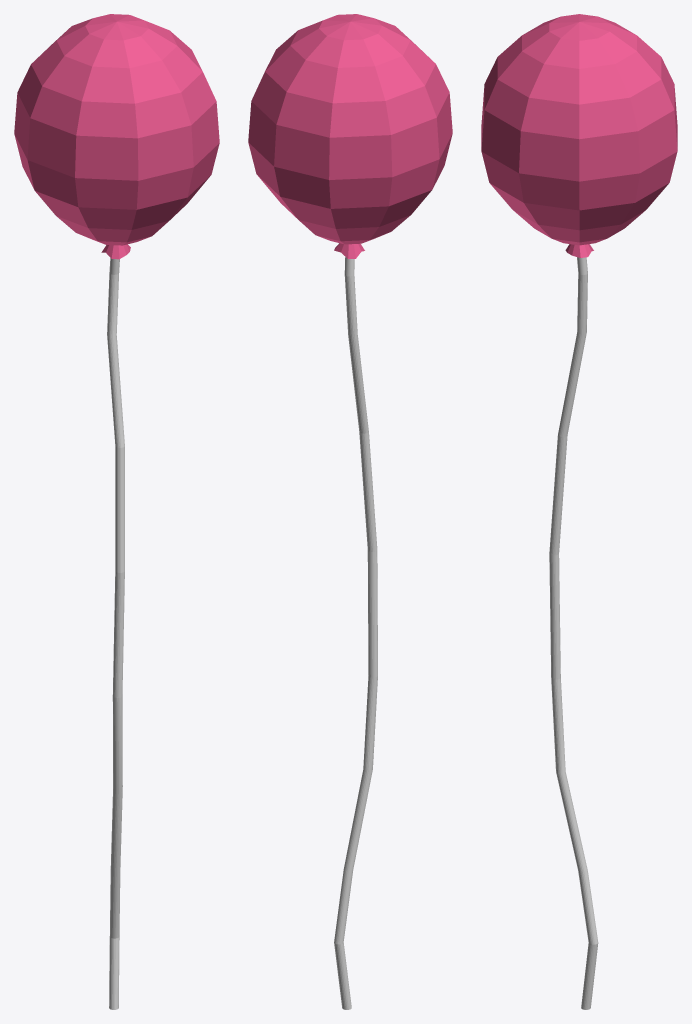
The model's file is baloon3.fbx.
3 views of the same model, side by side, from view 1: azimuth 30°, elevation 25°; view 2: azimuth 150°, elevation 25°; view 3: azimuth 270°, elevation 25° (orthographic).
Visible parts, largest first — view 1: string1.001; view 2: string1.001; view 3: string1.001.
Boxes of the visible parts, x1,y1,x2,y2 form: string1.001: (14,14,219,1009); string1.001: (248,14,452,1009); string1.001: (481,14,677,1009).
Size of the model in its own units: 45.13 by 238 by 42.92.
